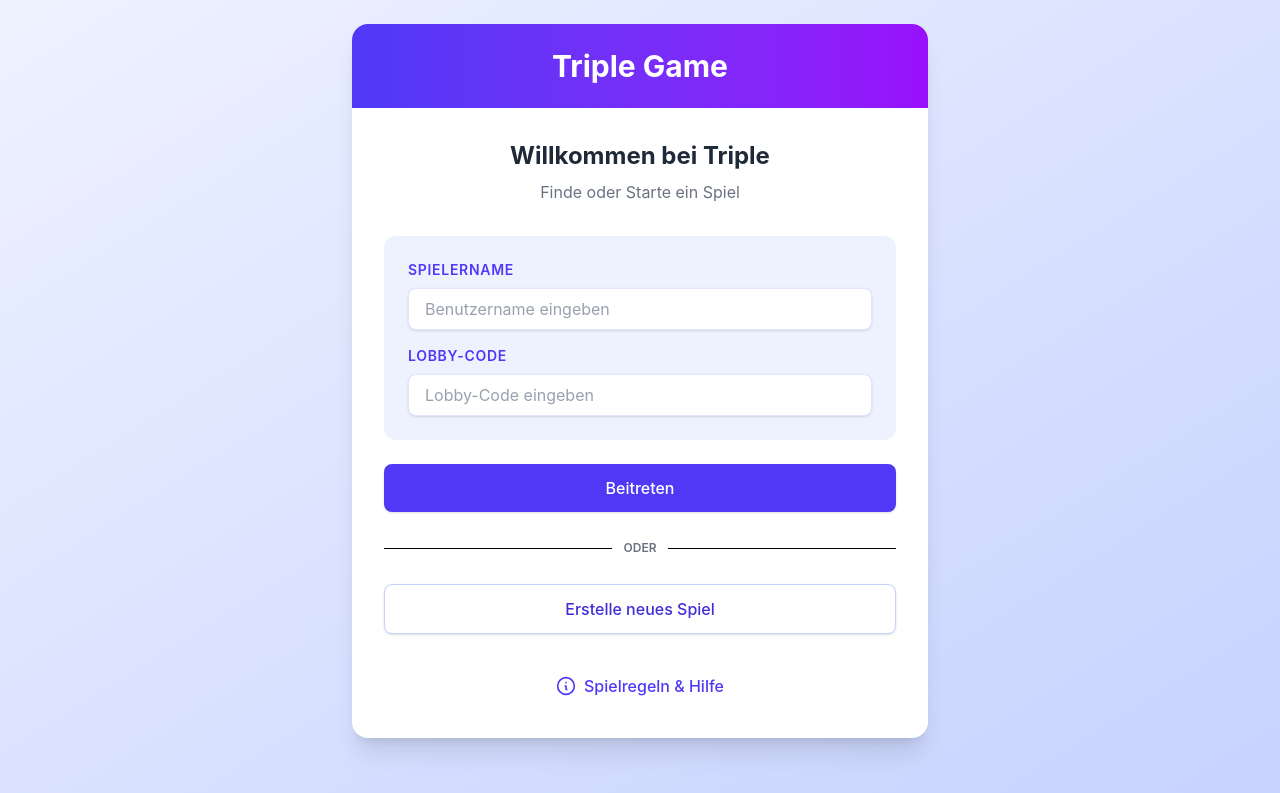
Test: LandingPage › should handle socket error when joining lobby
The width and height of the screenshot is (1280, 793).
Note: Fill in username and lobby code
Step 1. Type "TestUser" into the field named "username" → (640, 309), box [408,288,872,330]
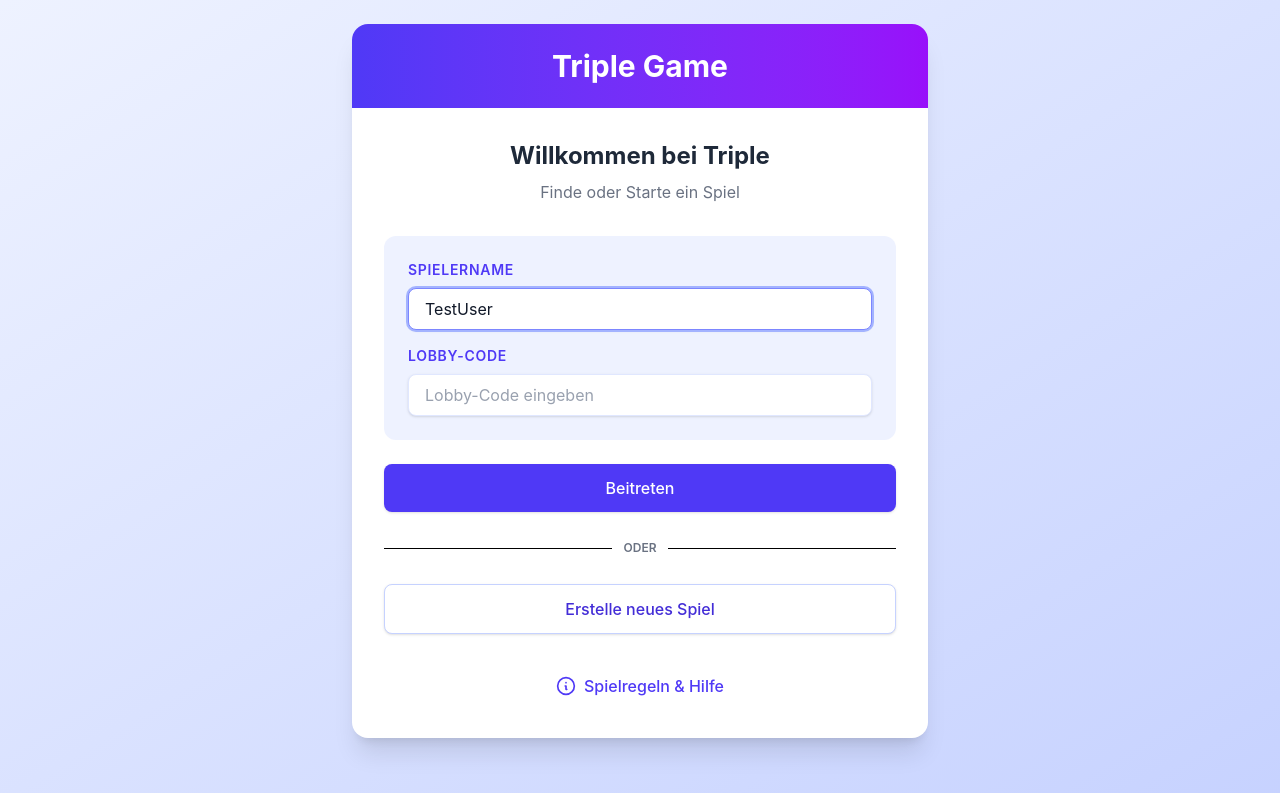
Step 2. Type "ABC123" into the field named "lobby code" → (640, 395), box [408,374,872,416]
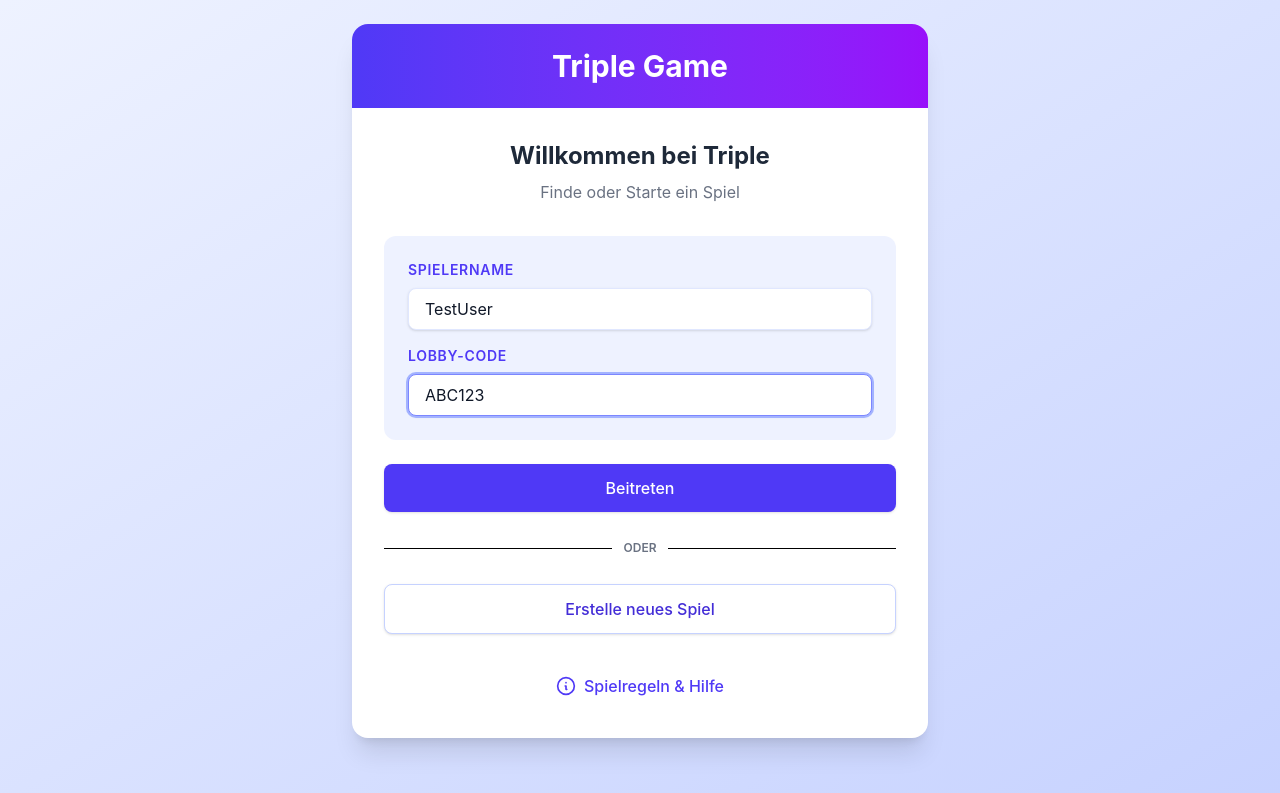
Note: Click join lobby button
Step 3. Click the button with aria-label "join game" → (640, 488), box [384,464,896,512]
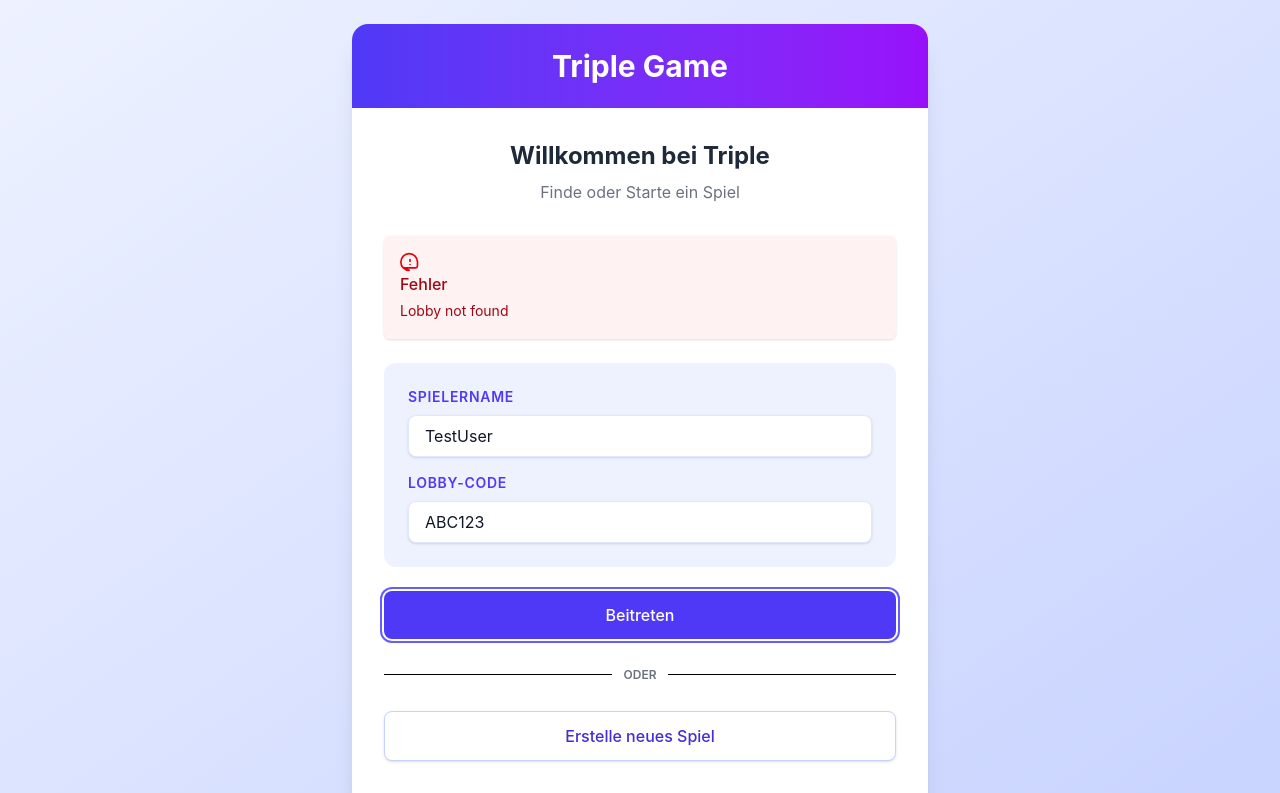
expect the button with aria-label "join game" does not show "Joining...": met, box [384,591,896,639]
expect the text "Lobby not found" is shown: met, box [400,302,508,319]
